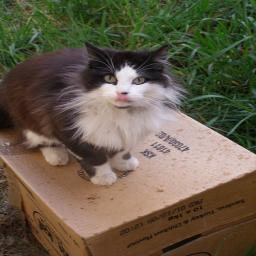catnose: (113, 87, 130, 98)
